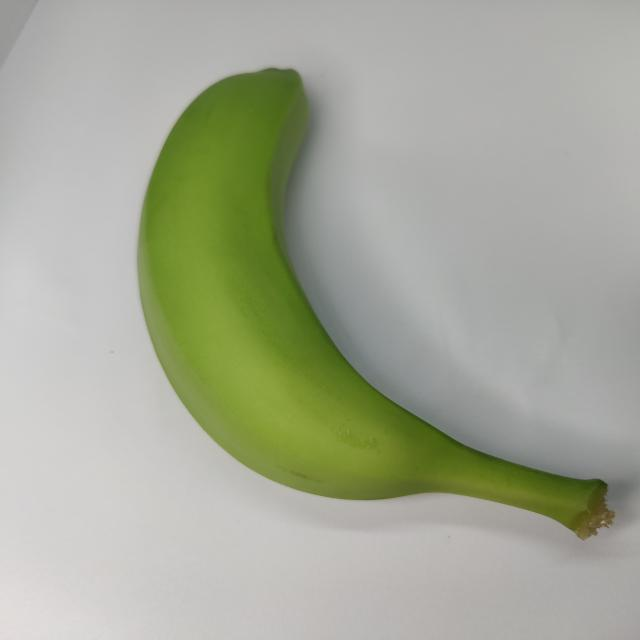raw: (88, 42, 638, 576)
